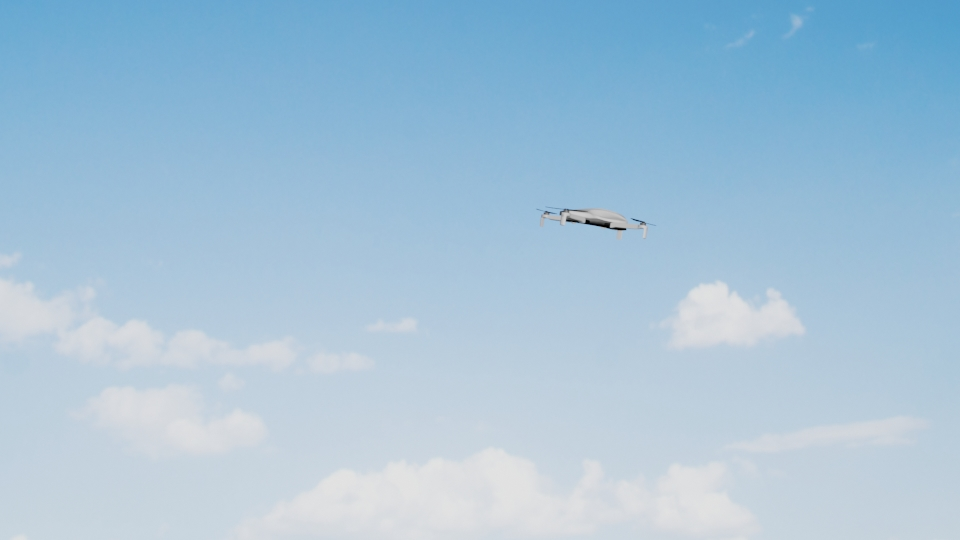drone: (535, 204, 655, 238)
